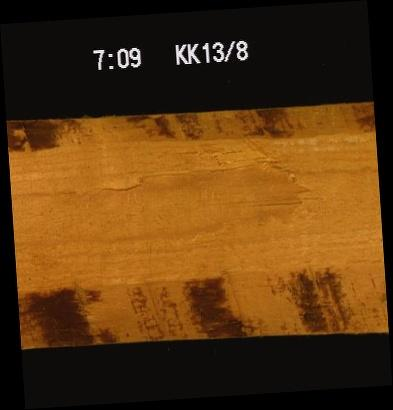split: (243, 193, 308, 209)
wave: (19, 268, 386, 343), (7, 111, 374, 149)
